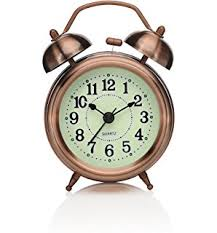alarm_clock: (32, 2, 176, 187), (40, 2, 176, 187)
